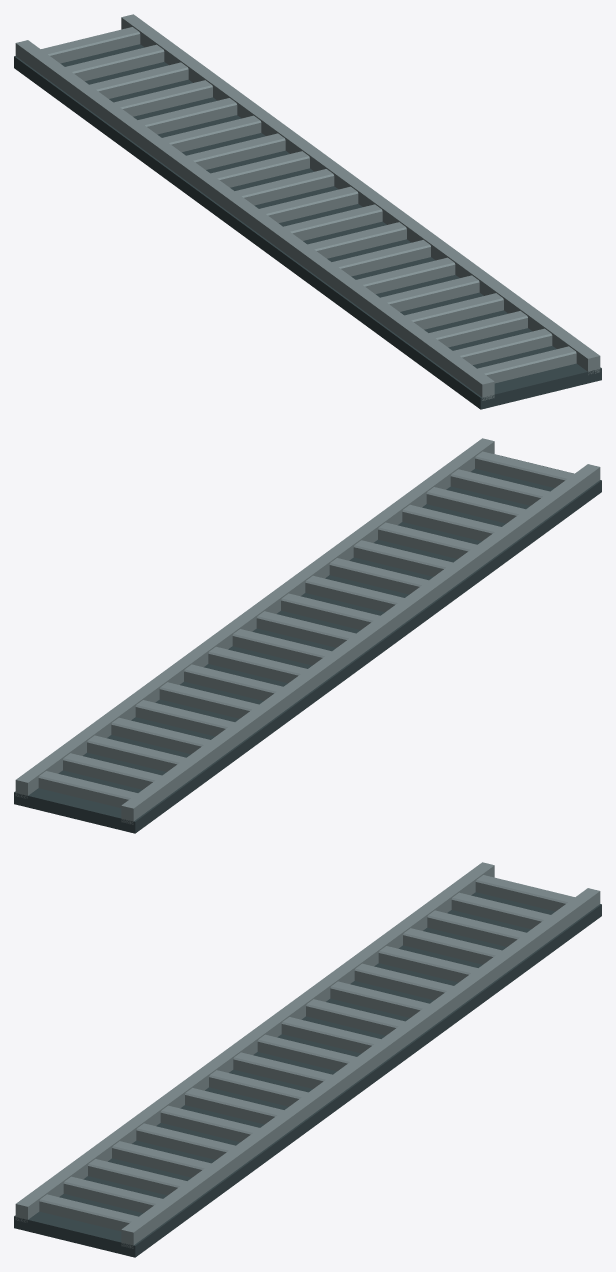
The model's file is drain_grate.glb.
The picture shows the model from 3 angles, top to bottom: view 1: azimuth 30°, elevation 25°; view 2: azimuth 150°, elevation 25°; view 3: azimuth 330°, elevation 25°; orthographic projection.
Parts seen in each view (by area): view 1: drain_grate_Surface; view 2: drain_grate_Surface; view 3: drain_grate_Surface.
Boxes of the visible parts, x1,y1,x2,y2 form: drain_grate_Surface: (14, 14, 601, 409); drain_grate_Surface: (14, 438, 601, 833); drain_grate_Surface: (14, 862, 601, 1257).
Size of the model in its own units: 0.54 by 0.105 by 3.6.
1 material, 1 textured.
